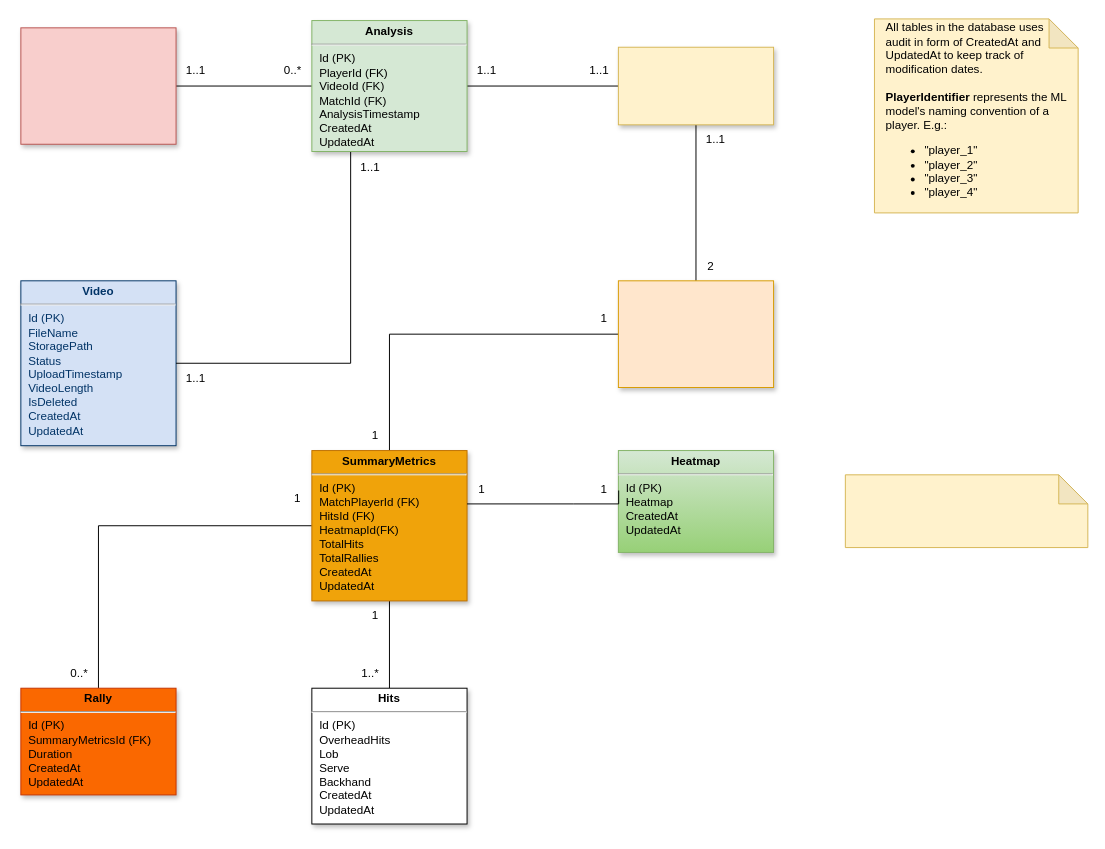
This 1105x849 diagram has some shape labels left out. Each missing label, with the centre of its shape:
Heatmap is stored as binary data with type : bytea (Binary Data Type): point (966, 511)
Match Id (PK) CreatedAt UpdatedAt: point (696, 87)
MatchPlayer Id (PK) MatchId (FK) PlayerIdentifier CreatedAt UpdatedAt: point (696, 335)
Player Id (PK) Name Email Role CreatedAt UpdatedAt: point (99, 87)
